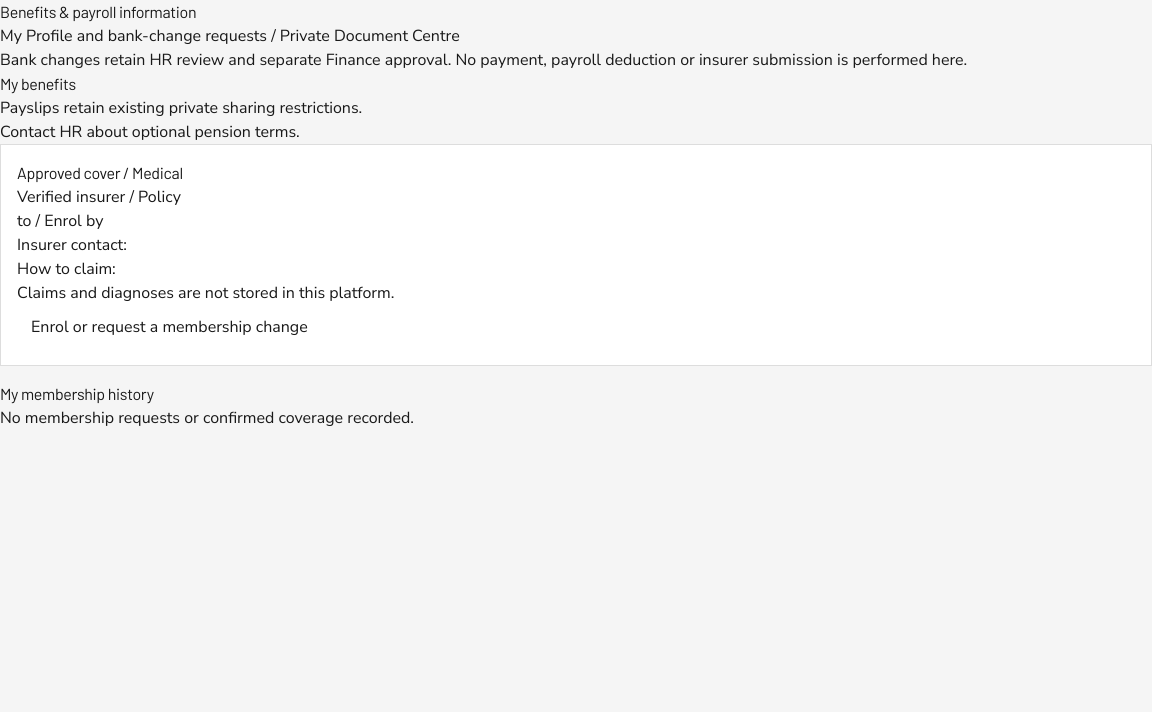
private supporting documents must already be authorized for download
Later steps or results of the test are not shown.
Click the button "Enrol or request a membership change". click: (169, 327)
box: [17,305,322,349]
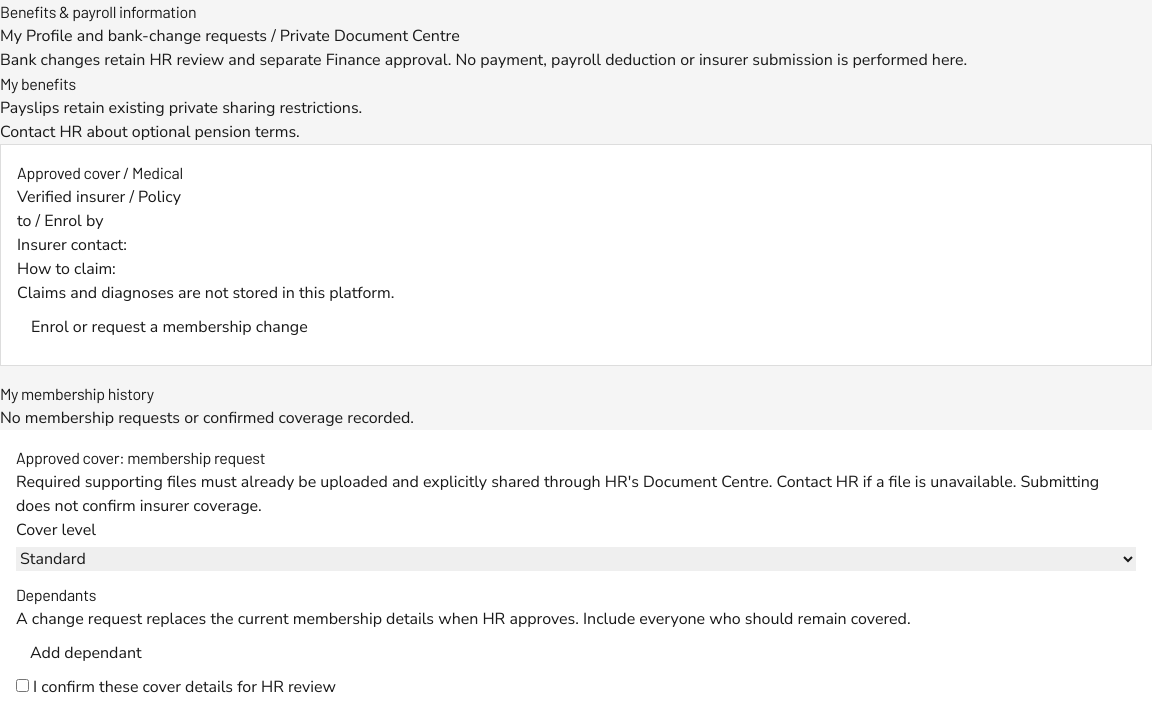
Result: the button "Add dependant" is shown at [16,631,156,675]
